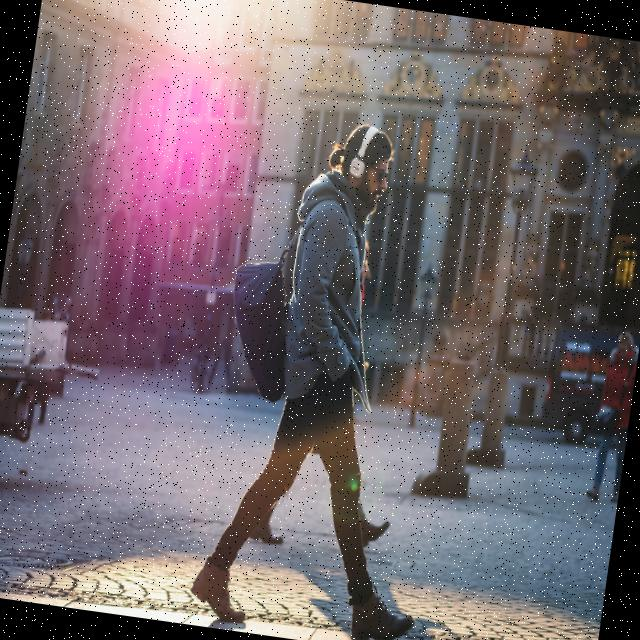Person: (188, 110, 482, 640), (586, 327, 640, 504)
